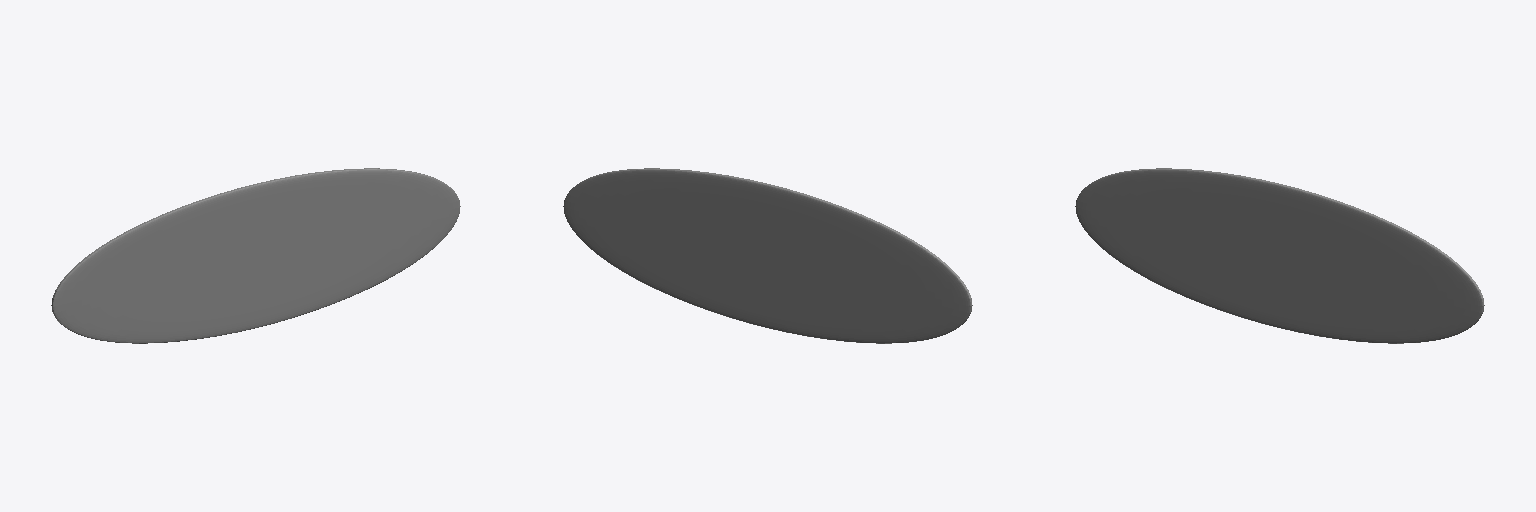
3 renders of one model, left to right at view 1: azimuth 30°, elevation 25°; view 2: azimuth 150°, elevation 25°; view 3: azimuth 330°, elevation 25°, orthographic.
Visible parts, largest first — view 1: arena00; view 2: arena00; view 3: arena00.
Part boxes in pixels (x1,y1,x2,y2): arena00: (51, 168, 460, 343); arena00: (563, 168, 972, 343); arena00: (1075, 168, 1484, 343).
Size of the model in its own units: 110 by 36.82 by 1.34.